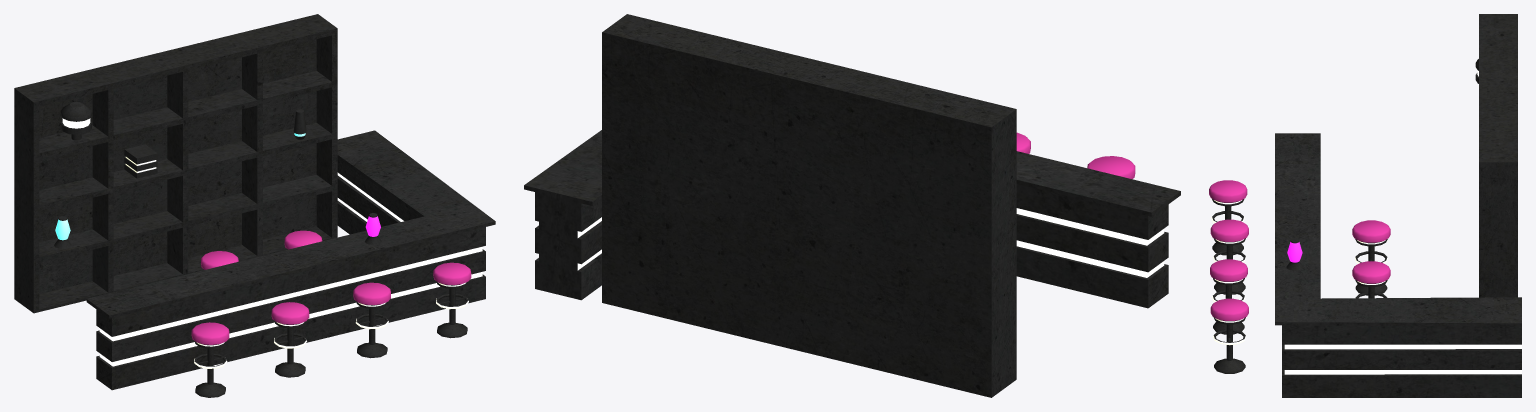
File: Bar-20220120.glb
3 views of the same model, side by side, from view 1: azimuth 30°, elevation 25°; view 2: azimuth 150°, elevation 25°; view 3: azimuth 270°, elevation 25° (orthographic). The views are drawn at different scales.
Visible parts, largest first — view 1: Bar_counter_Bar_counter_Base_2_15346, Bar_counter.001_Bar_counter.001_Base_2_15346, Bar_counter.001_Bar_counter.001_Emission_4_15378, Chair_(1)_Chair.001_Base_2_15346, Chair_(2)_Chair.003_Base_2_15346, Lamp.002_Lamp.010_Blue_15390, Chair_Chair_Base_2_15346, Chair_(3)_Chair.002_Base_2_15346, Lamp.001_(1)_Lamp.003_Base_2_15346, Chair_(1)_Chair.001_Red_15380, Chair_Chair_Red_15380, Chair_(3)_Chair.002_Red_15380 (+3 smaller); view 2: Bar_counter_Bar_counter_Base_2_15346, Bar_counter.001_Bar_counter.001_Base_2_15346, Bar_counter.001_Bar_counter.001_Emission_4_15378, Chair_Chair_Red_15380; view 3: Bar_counter.001_Bar_counter.001_Base_2_15346, Bar_counter_Bar_counter_Base_2_15346, Bar_counter.001_Bar_counter.001_Emission_4_15378, Chair_(3)_Chair.002_Base_2_15346, Chair_Chair_Red_15380, Chair_(2)_Chair.003_Red_15380.1, Chair_(2)_Chair.003_Red_15380.2, Chair_(1)_Chair.001_Red_15380, Chair_(3)_Chair.002_Red_15380, Chair_(2)_Chair.003_Red_15380, Chair_(2)_Chair.003_Base_2_15346.1, Chair_(1)_Chair.001_Base_2_15346 (+2 smaller).
Part boxes in pixels (box(x1,y1,x2,y2)): Bar_counter_Bar_counter_Base_2_15346: box(14, 14, 337, 313); Bar_counter.001_Bar_counter.001_Base_2_15346: box(86, 130, 495, 390); Bar_counter.001_Bar_counter.001_Emission_4_15378: box(99, 172, 482, 366); Chair_(1)_Chair.001_Base_2_15346: box(274, 321, 306, 377); Chair_(2)_Chair.003_Base_2_15346: box(356, 301, 388, 358); Lamp.002_Lamp.010_Blue_15390: box(124, 144, 157, 178); Chair_Chair_Base_2_15346: box(195, 341, 226, 397); Chair_(3)_Chair.002_Base_2_15346: box(436, 282, 468, 338); Lamp.001_(1)_Lamp.003_Base_2_15346: box(61, 102, 91, 140); Chair_(1)_Chair.001_Red_15380: box(271, 302, 309, 324); Chair_Chair_Red_15380: box(191, 322, 229, 344); Chair_(3)_Chair.002_Red_15380: box(433, 262, 471, 285); Bar_counter_Bar_counter_Base_2_15346: box(602, 14, 1016, 397); Bar_counter.001_Bar_counter.001_Base_2_15346: box(524, 130, 1180, 308); Bar_counter.001_Bar_counter.001_Emission_4_15378: box(577, 208, 1164, 277); Chair_Chair_Red_15380: box(1087, 156, 1135, 179); Bar_counter.001_Bar_counter.001_Base_2_15346: box(1275, 133, 1521, 397); Bar_counter_Bar_counter_Base_2_15346: box(1479, 14, 1517, 297); Bar_counter.001_Bar_counter.001_Emission_4_15378: box(1284, 344, 1521, 374); Chair_(3)_Chair.002_Base_2_15346: box(1213, 317, 1245, 373); Chair_Chair_Red_15380: box(1209, 180, 1247, 202); Chair_(2)_Chair.003_Red_15380.1: box(1352, 220, 1390, 242); Chair_(2)_Chair.003_Red_15380.2: box(1352, 261, 1390, 283); Chair_(1)_Chair.001_Red_15380: box(1210, 219, 1248, 241); Chair_(3)_Chair.002_Red_15380: box(1210, 298, 1248, 320); Chair_(2)_Chair.003_Red_15380: box(1210, 259, 1247, 281); Chair_(2)_Chair.003_Base_2_15346.1: box(1355, 239, 1387, 295); Chair_(1)_Chair.001_Base_2_15346: box(1213, 238, 1245, 294).
Size of the model in its own units: 9.58 by 4.97 by 6.67.
9 materials, 2 textured.
